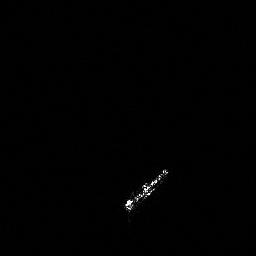ship: (119, 165, 172, 214)
